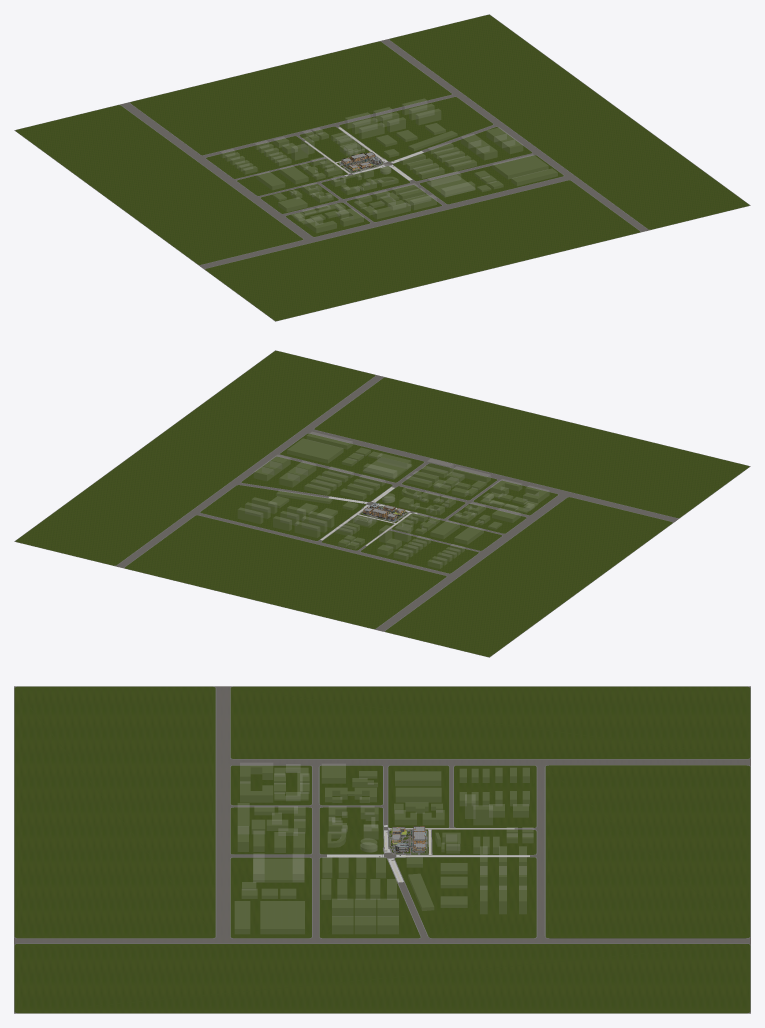
Rendered from build2.gltf.
3 renders of one model, top to bottom at view 1: azimuth 30°, elevation 25°; view 2: azimuth 150°, elevation 25°; view 3: azimuth 270°, elevation 25°, orthographic. The views are drawn at different scales.
Parts seen in each view (by area): view 1: MESH-SMKXY_L1_DCJ_FLO_2, object 11; view 2: MESH-SMKXY_L1_DCJ_FLO_2, object 11; view 3: MESH-SMKXY_L1_DCJ_FLO_2, object 11, MESH-SMKXY_L1_DCJ_FLO_3, MESH-SMKXY_L1_DCJ_FLO_1.
Boxes of the visible parts, bbox=[...] form: MESH-SMKXY_L1_DCJ_FLO_2: bbox=[14, 14, 750, 321]; object 11: bbox=[221, 99, 557, 232]; MESH-SMKXY_L1_DCJ_FLO_2: bbox=[14, 350, 750, 657]; object 11: bbox=[238, 432, 548, 568]; MESH-SMKXY_L1_DCJ_FLO_2: bbox=[14, 686, 750, 1013]; object 11: bbox=[235, 763, 533, 933]; MESH-SMKXY_L1_DCJ_FLO_3: bbox=[327, 825, 529, 882]; MESH-SMKXY_L1_DCJ_FLO_1: bbox=[387, 829, 428, 855].
Bounding box in the file's own units: 3338 × 80.57 × 3178.
Materials: 87 (70 with a texture image).
